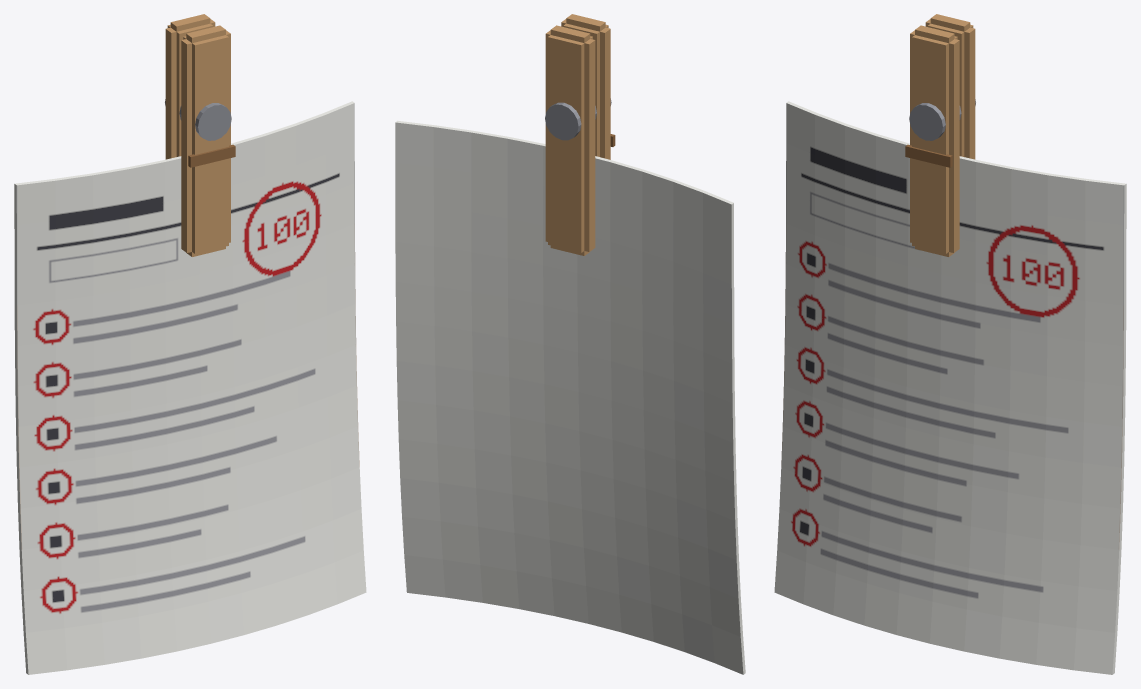
Rendered from ExamPaperGarland.fbx.
The picture shows the model from 3 angles, left to right: view 1: azimuth 30°, elevation 25°; view 2: azimuth 150°, elevation 25°; view 3: azimuth 330°, elevation 25°; orthographic projection.
Parts seen in each view (by area): view 1: ExamPaperGarland_Paper, ExamPaperGarland_PinFront, ExamPaperGarland_PinBack, ExamPaperGarland_Spring, ExamPaperGarland_Groove; view 2: ExamPaperGarland_Paper, ExamPaperGarland_PinBack, ExamPaperGarland_PinFront, ExamPaperGarland_Spring; view 3: ExamPaperGarland_Paper, ExamPaperGarland_PinFront, ExamPaperGarland_PinBack, ExamPaperGarland_Spring, ExamPaperGarland_Groove.
Boxes of the visible parts, x1,y1,x2,y2 form: ExamPaperGarland_Paper: [14, 101, 366, 674]; ExamPaperGarland_PinFront: [181, 25, 230, 256]; ExamPaperGarland_PinBack: [165, 14, 215, 159]; ExamPaperGarland_Spring: [165, 99, 231, 140]; ExamPaperGarland_Groove: [188, 144, 235, 167]; ExamPaperGarland_Paper: [395, 120, 745, 674]; ExamPaperGarland_PinBack: [545, 25, 595, 255]; ExamPaperGarland_PinFront: [561, 14, 610, 159]; ExamPaperGarland_Spring: [545, 98, 611, 140]; ExamPaperGarland_Paper: [774, 101, 1126, 674]; ExamPaperGarland_PinFront: [910, 25, 959, 256]; ExamPaperGarland_PinBack: [925, 14, 975, 159]; ExamPaperGarland_Spring: [909, 99, 975, 140]; ExamPaperGarland_Groove: [905, 144, 952, 167].
Bounding box in the file's own units: 100 × 172 × 17.
Materials: 1 (1 with a texture image).
